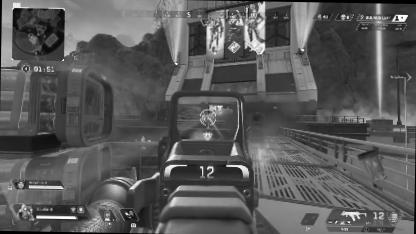Target: (204, 112, 212, 121)
